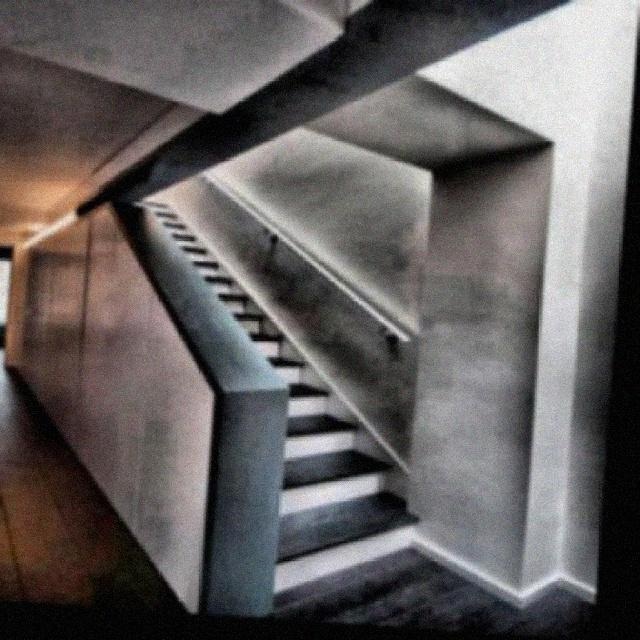stair: (119, 193, 443, 630)
